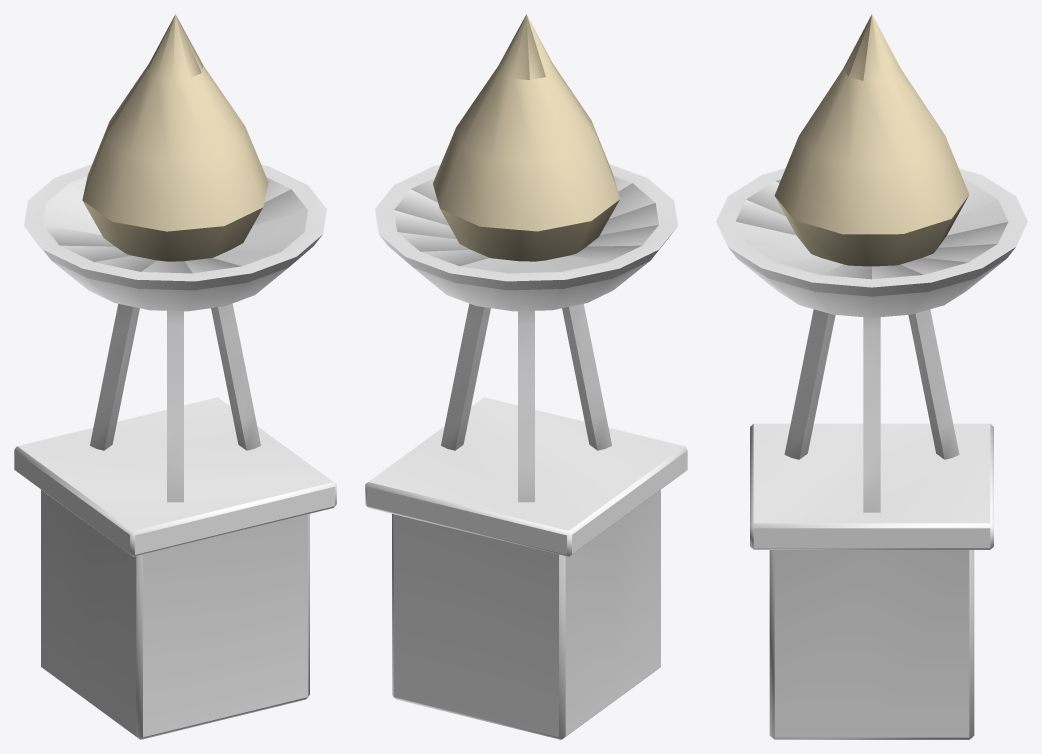
The model's file is brazier.glb.
The picture shows the model from 3 angles, left to right: view 1: azimuth 30°, elevation 25°; view 2: azimuth 150°, elevation 25°; view 3: azimuth 270°, elevation 25°; orthographic projection. The views are drawn at different scales.
Parts seen in each view (by area): view 1: brazier_CL_Stone, brazier_CL_Copper, brazier_CL_Glow; view 2: brazier_CL_Stone, brazier_CL_Copper, brazier_CL_Glow; view 3: brazier_CL_Stone, brazier_CL_Copper, brazier_CL_Glow.
Part boxes in pixels (box(x1,y1,x2,y2)): brazier_CL_Stone: box(14, 397, 336, 739); brazier_CL_Copper: box(24, 164, 326, 502); brazier_CL_Glow: box(82, 14, 268, 261); brazier_CL_Stone: box(365, 397, 687, 739); brazier_CL_Copper: box(375, 164, 677, 502); brazier_CL_Glow: box(433, 14, 619, 261); brazier_CL_Stone: box(750, 423, 993, 739); brazier_CL_Copper: box(716, 168, 1027, 512); brazier_CL_Glow: box(774, 14, 969, 266).
Bounding box in the file's own units: 1.28 × 3.1 × 1.28.
